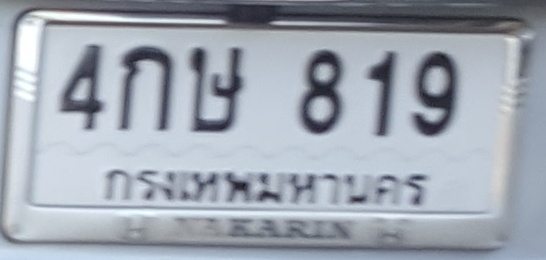num4: (56, 41, 108, 131)
txt01: (114, 43, 177, 131)
txt34: (181, 45, 250, 134)
